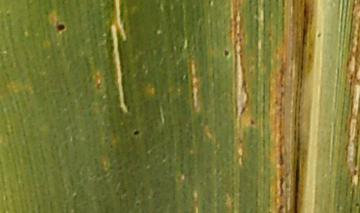tarspot: (55, 22, 68, 33), (132, 129, 141, 136), (223, 48, 230, 57), (316, 31, 323, 40), (248, 120, 257, 127), (353, 200, 360, 208)
